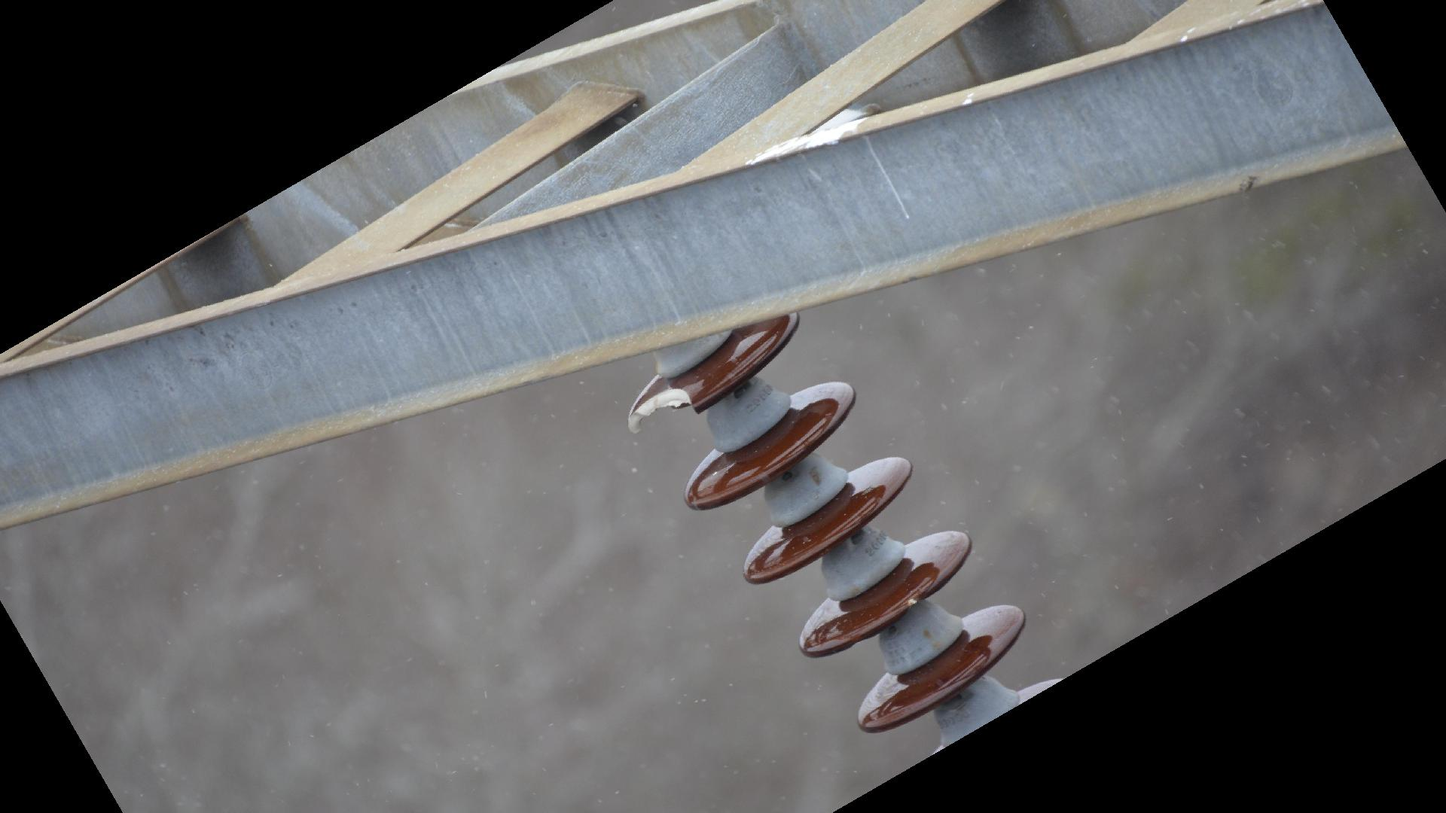insulator: (624, 309, 1036, 738)
insulator_breakage: (621, 384, 703, 437)
